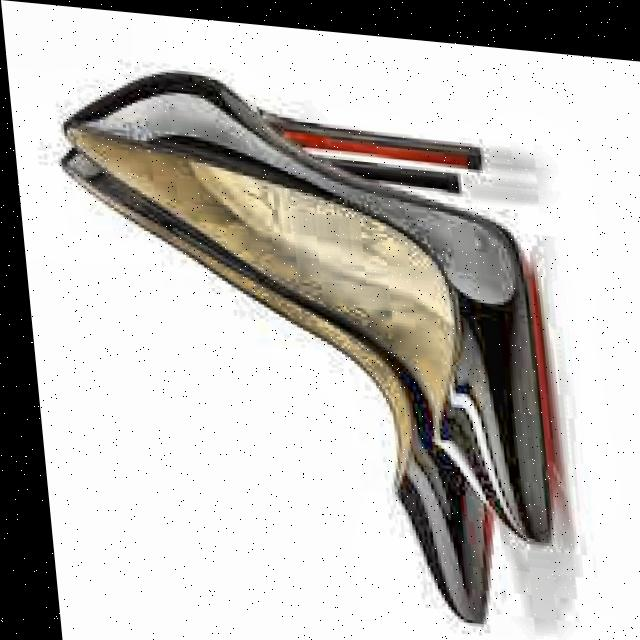shoes: (39, 26, 591, 640)
